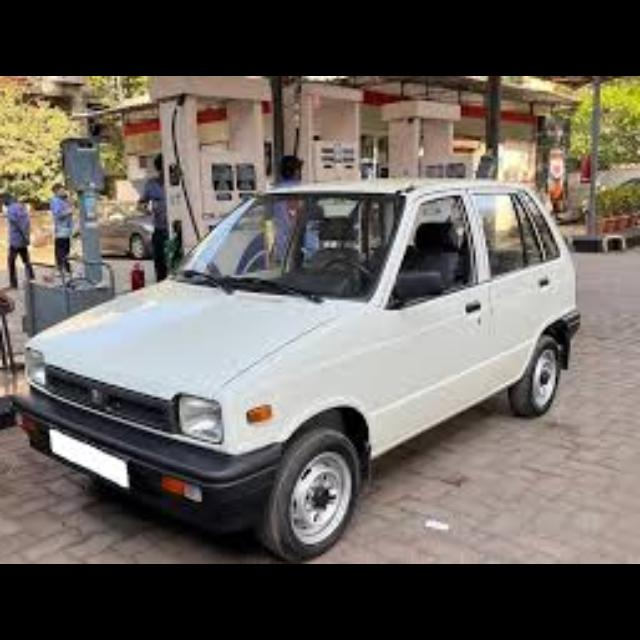vehicles: (16, 174, 584, 558)
